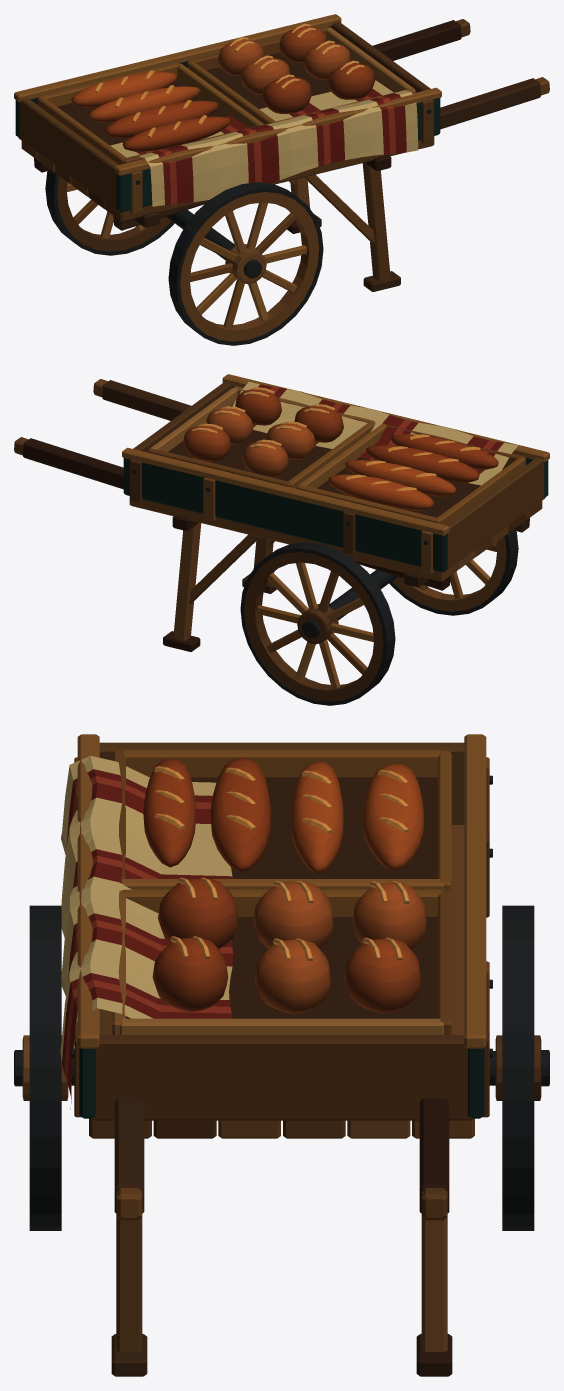
The model's file is SM_BakeryHandcart.fbx.
3 renders of one model, top to bottom at view 1: azimuth 30°, elevation 25°; view 2: azimuth 150°, elevation 25°; view 3: azimuth 270°, elevation 25°, orthographic. The views are drawn at different scales.
Parts seen in each view (by area): view 1: SM_BakeryHandcart; view 2: SM_BakeryHandcart; view 3: SM_BakeryHandcart.
Part boxes in pixels (bbox=[...]): SM_BakeryHandcart: bbox=[14, 14, 549, 345]; SM_BakeryHandcart: bbox=[14, 374, 549, 705]; SM_BakeryHandcart: bbox=[14, 734, 549, 1376].
Size of what is drawn, in the model's own units: 193 by 105 by 88.86.
